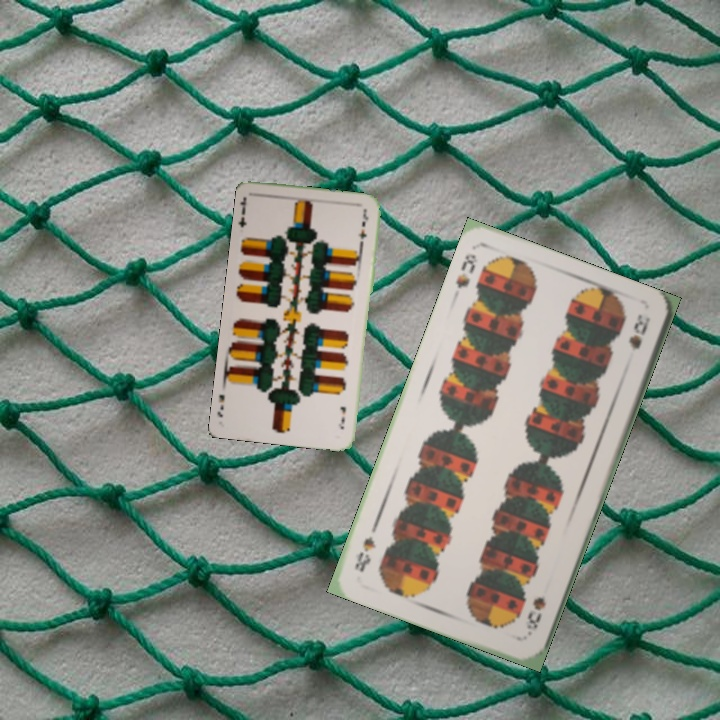E7: (235, 194, 249, 230), (335, 402, 348, 432)
S8: (521, 592, 549, 639), (451, 249, 479, 291)
